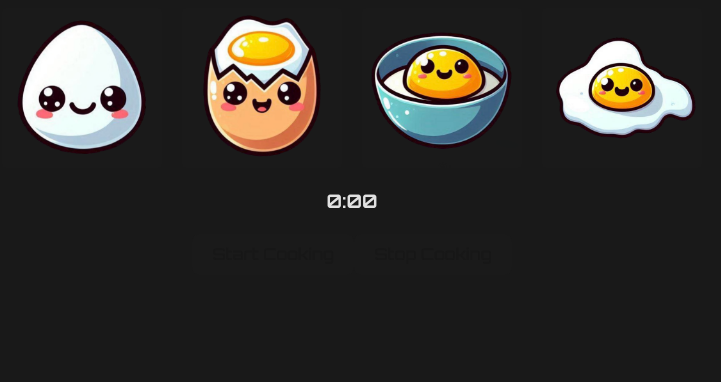
Test: EggTimer › stop button resets timer
What coordinates should you click on to do the following:
click the picture with test id "fried"
I would click on:
 (622, 88)
Its box is [542, 8, 702, 168].
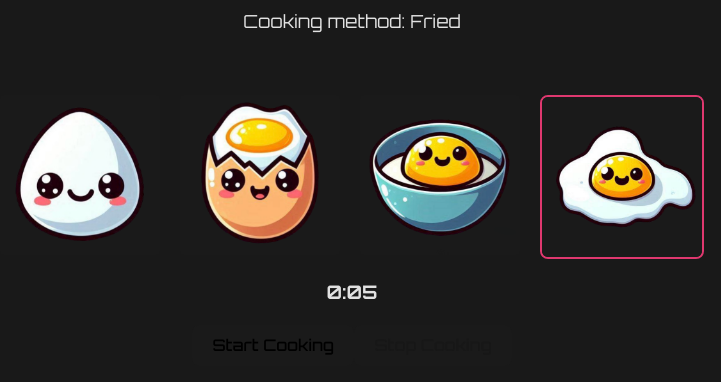
Expected: the button "Start Cooking" is enabled
What coordinates should you click on to do the following:
click the button "Start Cooking"
I would click on:
 (273, 345)
Its box is [192, 324, 354, 366].
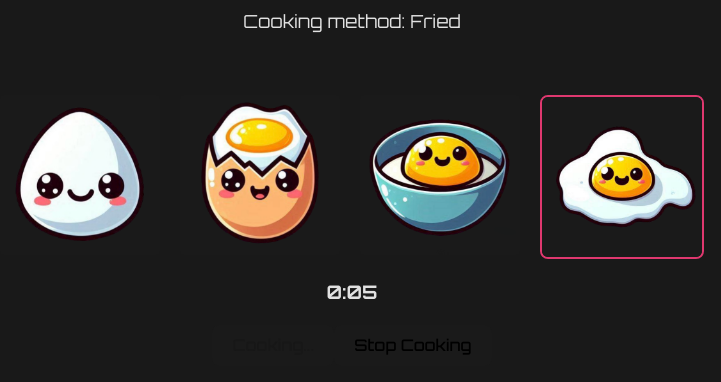
What coordinates should you click on to do the following:
click the button "Stop Cooking"
I would click on:
 (413, 345)
Its box is [334, 324, 492, 366].
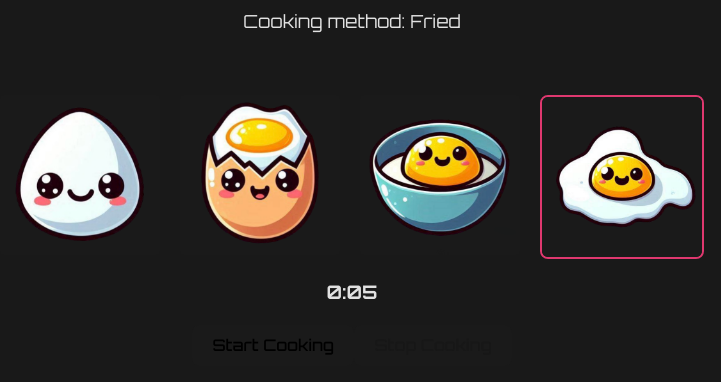
Expected: the heading "0:05" is shown, [326, 280, 378, 304]
Expected: the button "Start Cooking" is enabled, [192, 324, 354, 366]
